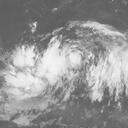cyclone: (43, 41, 110, 94)
